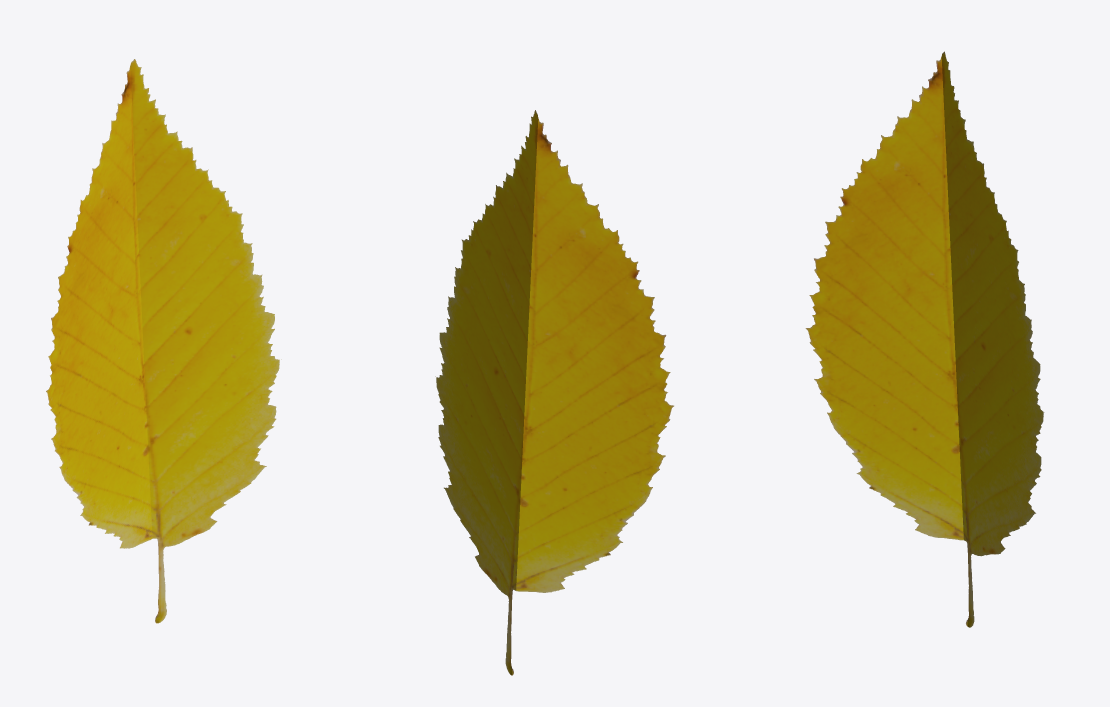
Rendered from leaf.glb.
3 views of the same model, side by side, from view 1: azimuth 30°, elevation 25°; view 2: azimuth 150°, elevation 25°; view 3: azimuth 330°, elevation 25° (orthographic).
Visible parts, largest first — view 1: Plane; view 2: Plane; view 3: Plane.
Boxes of the visible parts, box(x1,y1,x2,y2) form: Plane: box(46, 59, 281, 623); Plane: box(435, 110, 673, 675); Plane: box(805, 51, 1044, 627).
Bounding box in the file's own units: 0.18 × 0.3 × 0.0326.
1 material, 1 textured.
